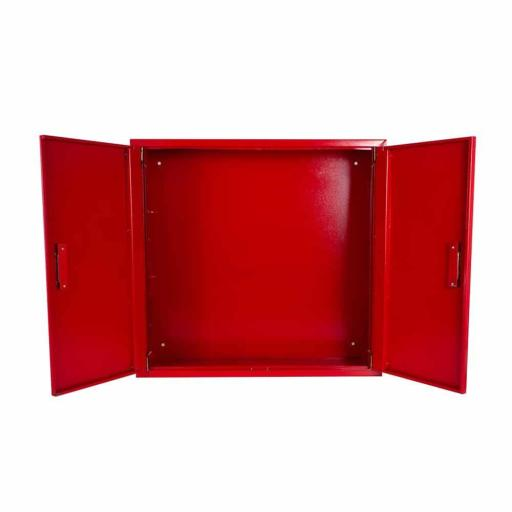fire_hose: (24, 116, 486, 416)
